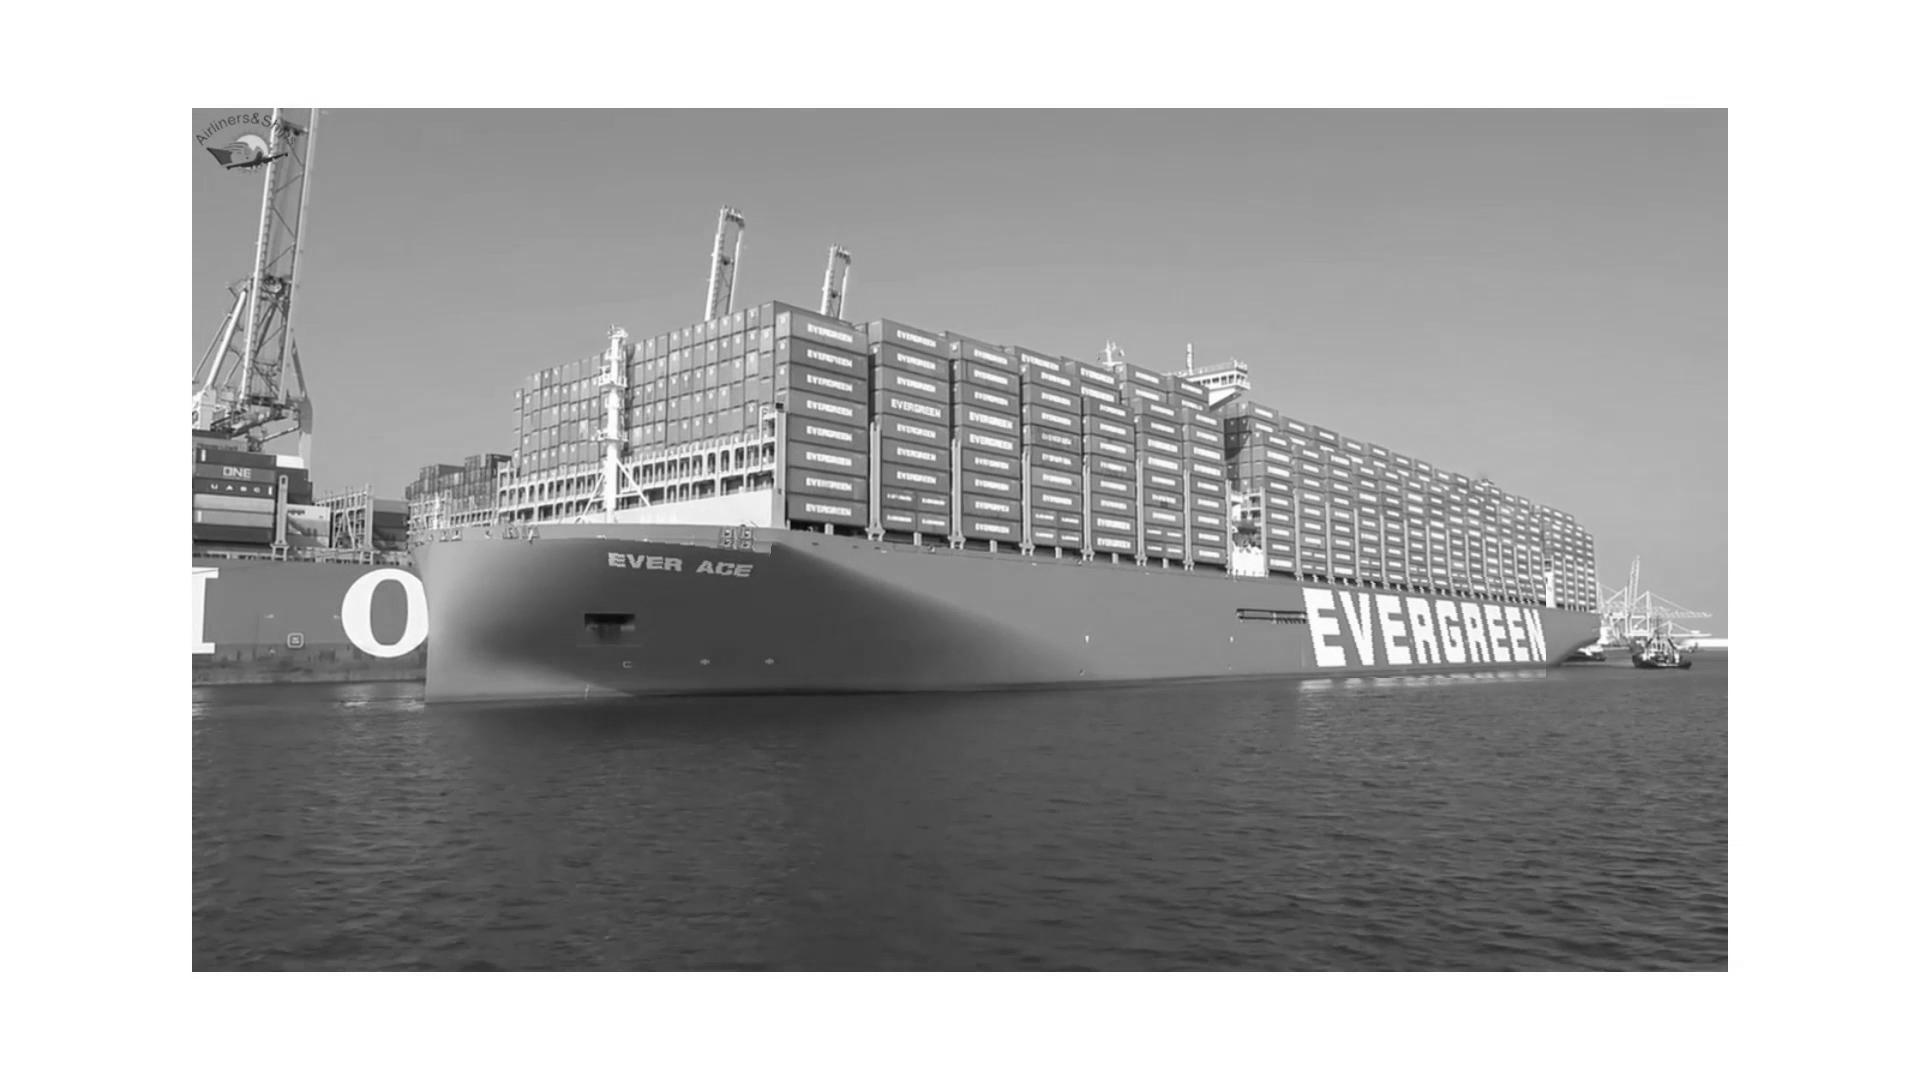OCR: (1284, 575, 1545, 679), (599, 530, 773, 585)
